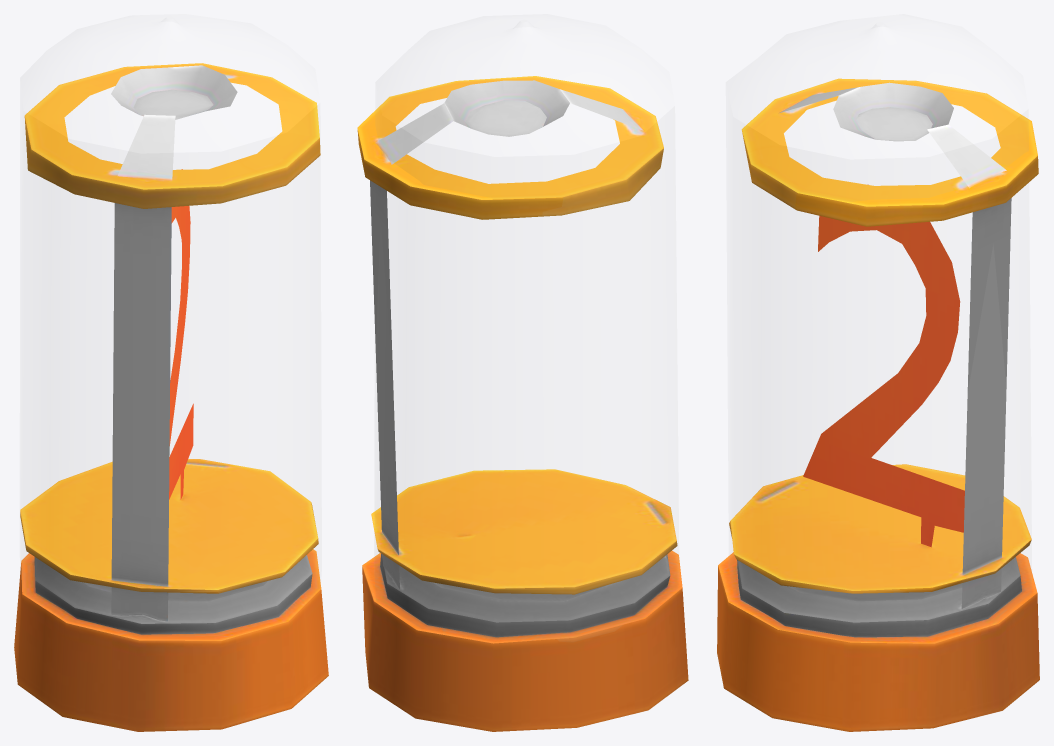
Rendered from obj_num02_base.gltf.
3 views of the same model, side by side, from view 1: azimuth 30°, elevation 25°; view 2: azimuth 150°, elevation 25°; view 3: azimuth 270°, elevation 25° (orthographic).
Visible parts, largest first — view 1: obj_num02_base; view 2: obj_num02_base; view 3: obj_num02_base.
Part boxes in pixels (x1=…): obj_num02_base: x1=14, y1=63, x2=328, y2=731; obj_num02_base: x1=357, y1=76, x2=688, y2=731; obj_num02_base: x1=717, y1=78, x2=1039, y2=731.
Size of what is drawn, in the model's own units: 0.3242 by 0.7176 by 0.3258.
2 materials, 1 textured.
